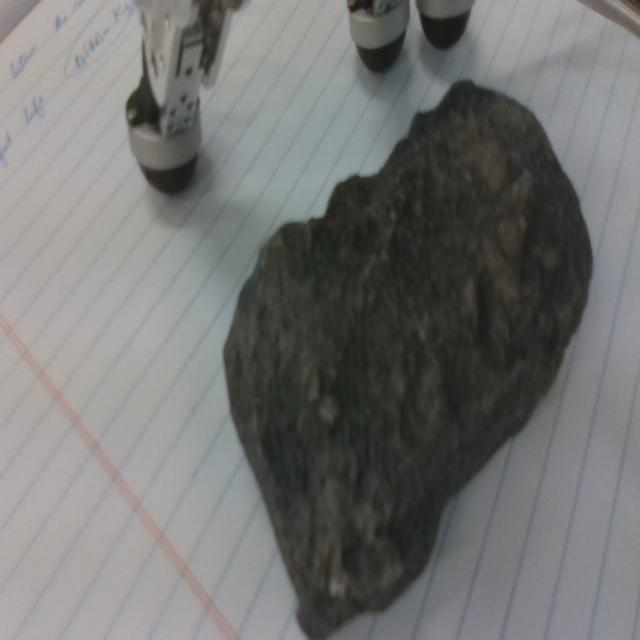stone: (222, 79, 593, 640)
